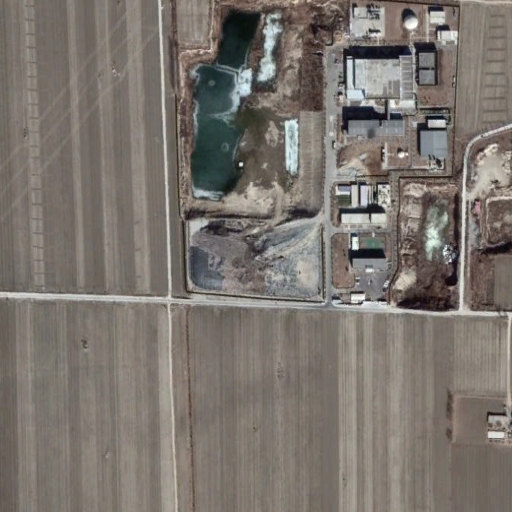lf: (186, 215, 322, 298)
